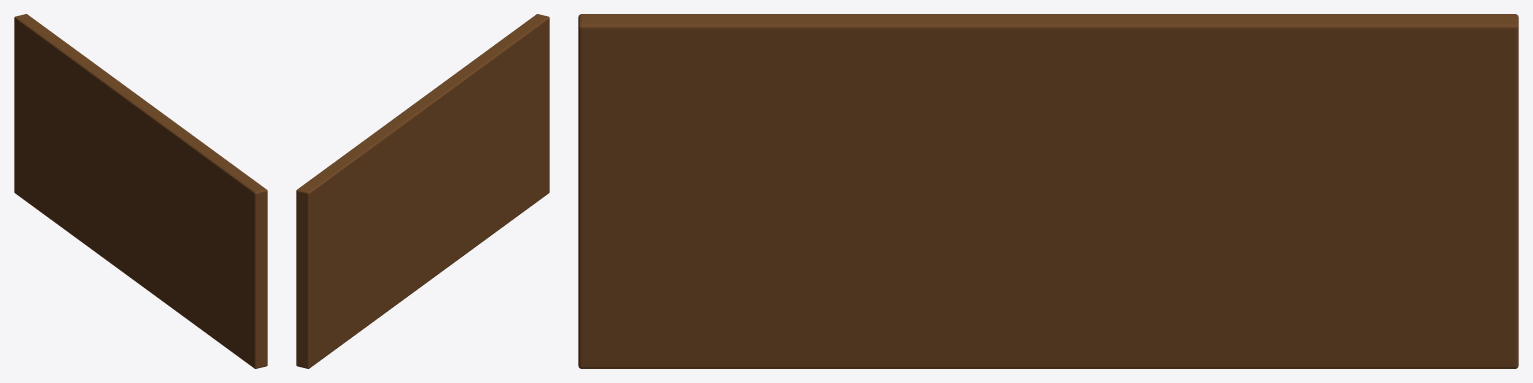
Rendered from wood_door_0.obj.
The picture shows the model from 3 angles, left to right: view 1: azimuth 30°, elevation 25°; view 2: azimuth 150°, elevation 25°; view 3: azimuth 270°, elevation 25°; orthographic projection. The views are drawn at different scales.
Size of the model in its own units: 0.075 by 0.95 by 2.35.
